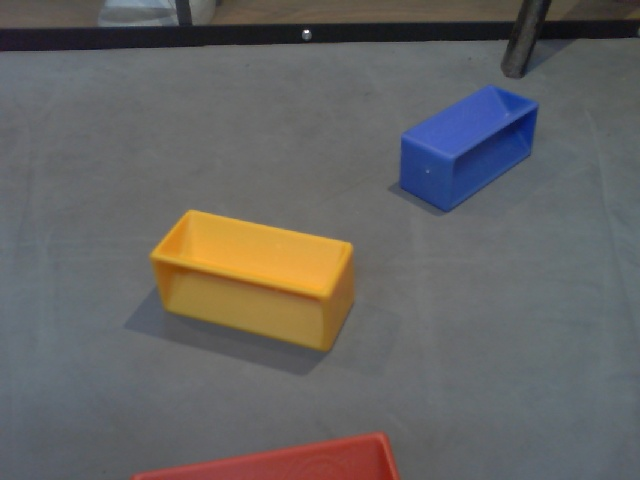BlueSample: (393, 82, 542, 214)
RedSample: (130, 430, 404, 480)
YellowSample: (146, 201, 361, 359)
